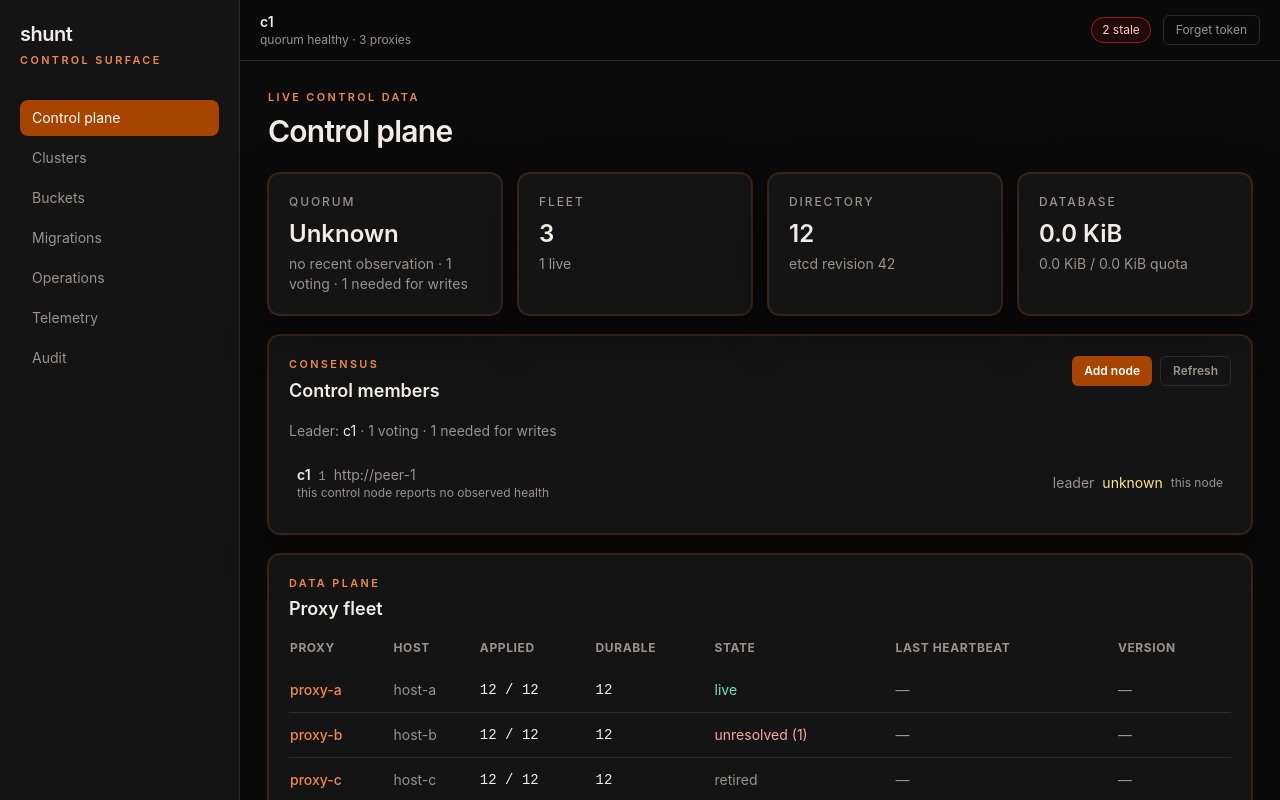
Test: asks a live proxy to retire
This screenshot has width=1280, height=800.
Check: the heading "Proxy fleet" is shown, box [289,595,383,623]
Click the text "proxy-a" at (341, 690), box [289,668,392,712]
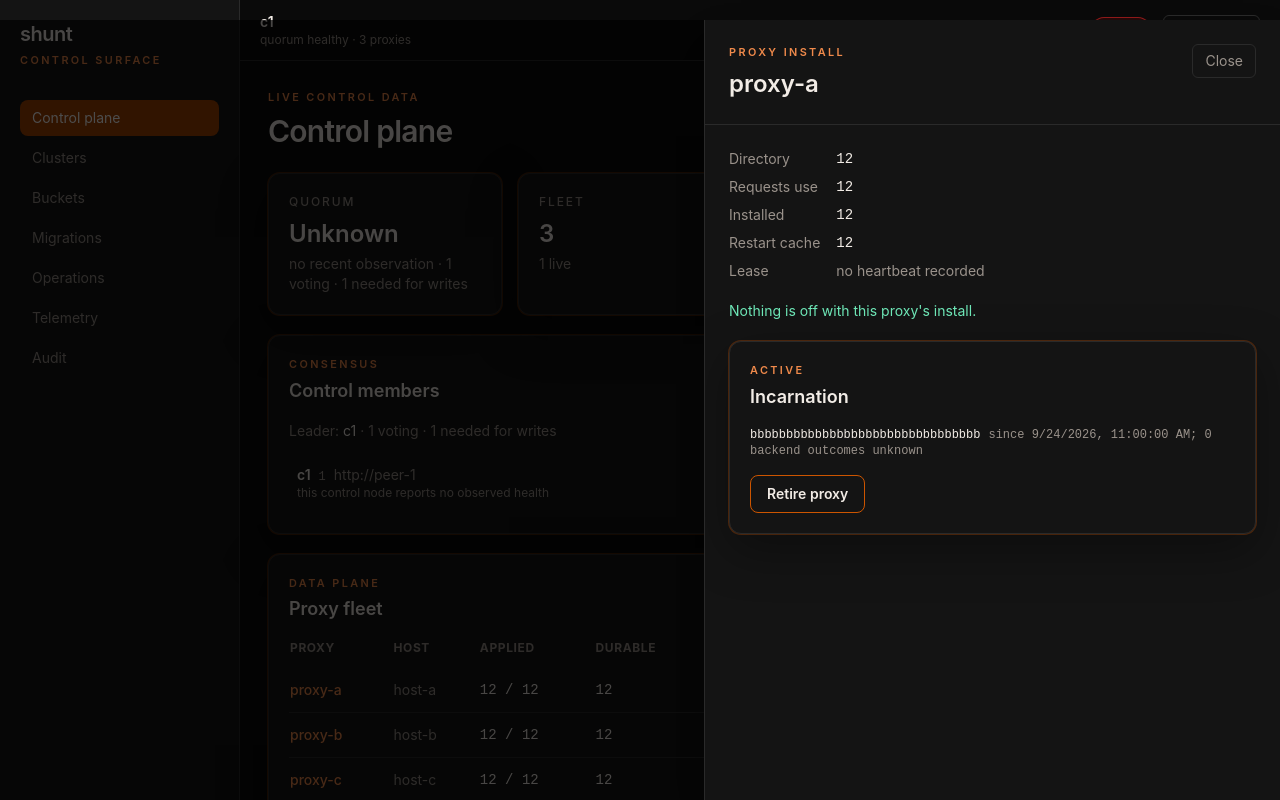
Click the button "Retire proxy" at (808, 494), box [750,475,865,513]
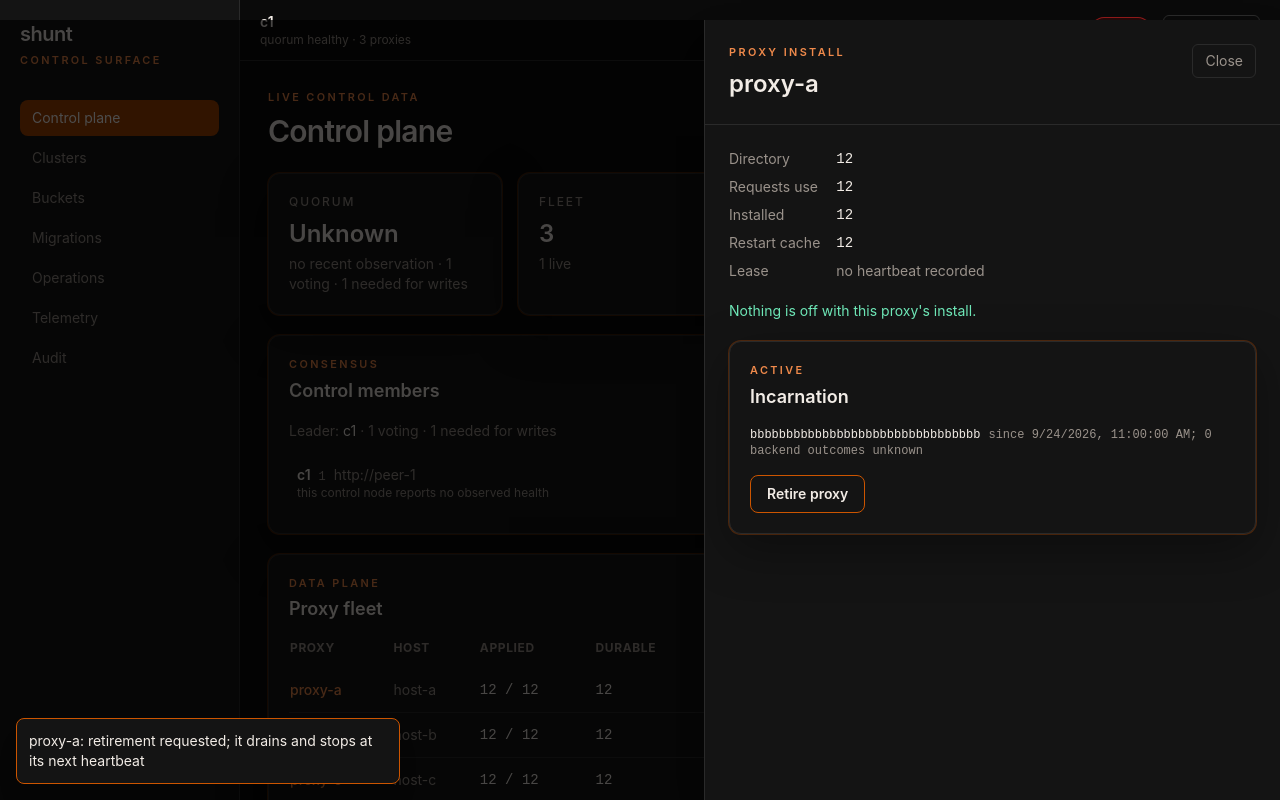
Check: the button "retirement requested; it drains and stops at its next heartbeat" is shown, box [16,718,400,784]
